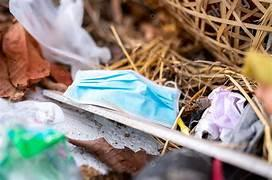Mask: (64, 70, 179, 126)
